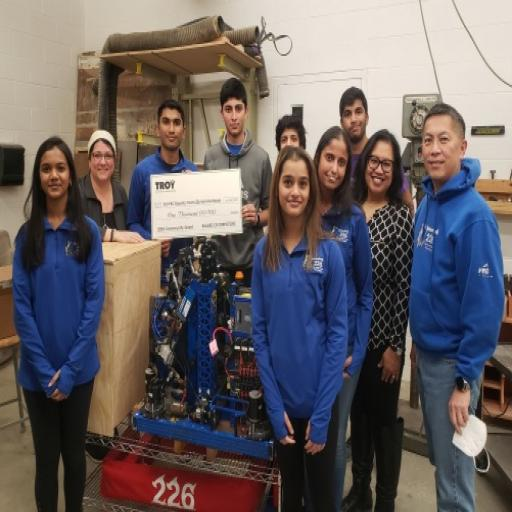robot: (102, 222, 289, 506)
